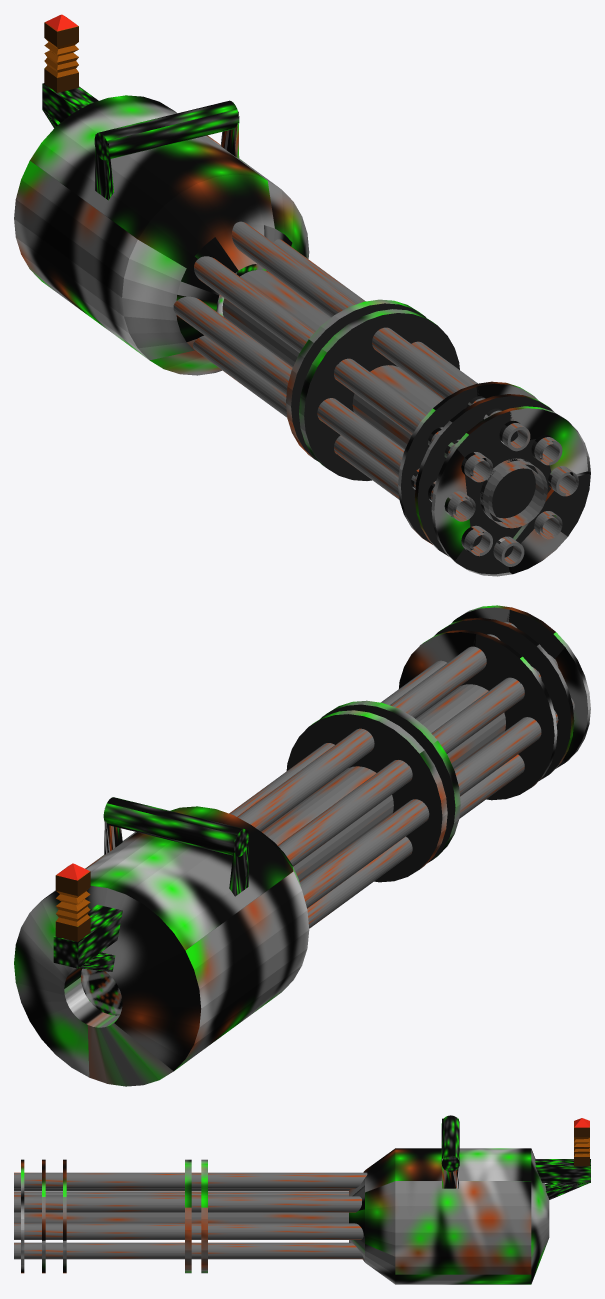
The model's file is MiniGun.obj.
The picture shows the model from 3 angles, top to bottom: view 1: azimuth 30°, elevation 25°; view 2: azimuth 150°, elevation 25°; view 3: azimuth 270°, elevation 25°; orthographic projection. The views are drawn at different scales.
Visible parts, largest first — view 1: Cylinder.013, Cylinder.011, Cylinder.012, Cylinder.010, Cylinder.008, Cylinder.005, Cylinder.004, Cylinder.019, Cylinder.009, Cube, Cylinder.006, Cube.002; view 2: Cylinder.013, Cylinder.011, Cylinder.012, Cylinder.010, Cylinder.008, Cylinder.005, Cylinder.004, Cylinder.019, Cylinder.009, Cube, Cube.002, Cylinder.006 (+1 smaller); view 3: Cylinder.013, Cylinder.007, Cylinder.004, Cylinder.001, Cylinder.006, Cylinder.010, Cylinder.012, Cylinder.011, Cylinder.005, Cube.002, Cylinder.019, Cylinder.008 (+3 smaller).
Part boxes in pixels (<box>): Cylinder.013: <box>14,95,309,375</box>; Cylinder.011: <box>398,381,590,576</box>; Cylinder.012: <box>286,299,459,480</box>; Cylinder.010: <box>222,270,547,528</box>; Cylinder.008: <box>194,256,492,482</box>; Cylinder.005: <box>173,296,475,521</box>; Cylinder.004: <box>231,221,530,451</box>; Cylinder.019: <box>94,100,239,160</box>; Cylinder.009: <box>193,335,492,556</box>; Cube: <box>44,14,78,92</box>; Cylinder.006: <box>273,239,562,465</box>; Cube.002: <box>42,83,98,122</box>; Cylinder.013: <box>14,806,309,1086</box>; Cylinder.011: <box>399,605,590,800</box>; Cylinder.012: <box>286,700,460,882</box>; Cylinder.010: <box>261,684,505,881</box>; Cylinder.008: <box>278,654,558,866</box>; Cylinder.005: <box>299,698,574,908</box>; Cylinder.004: <box>237,622,516,831</box>; Cylinder.019: <box>103,797,248,856</box>; Cylinder.009: <box>307,754,524,928</box>; Cube: <box>55,863,90,941</box>; Cube.002: <box>53,904,122,968</box>; Cylinder.006: <box>229,660,446,816</box>; Cylinder.013: <box>349,1148,549,1284</box>; Cylinder.007: <box>14,1242,363,1259</box>; Cylinder.004: <box>14,1172,367,1188</box>; Cylinder.001: <box>14,1223,363,1239</box>; Cylinder.006: <box>14,1196,361,1212</box>; Cylinder.010: <box>14,1195,348,1223</box>; Cylinder.012: <box>185,1159,207,1273</box>; Cylinder.011: <box>21,1159,66,1273</box>; Cylinder.005: <box>14,1191,348,1194</box>; Cube.002: <box>535,1159,590,1182</box>; Cylinder.019: <box>441,1115,459,1171</box>; Cylinder.008: <box>14,1189,349,1191</box>.
Size of the model in its own units: 0.7552 by 0.967 by 3.2.
Materials: 4 (4 with a texture image).
